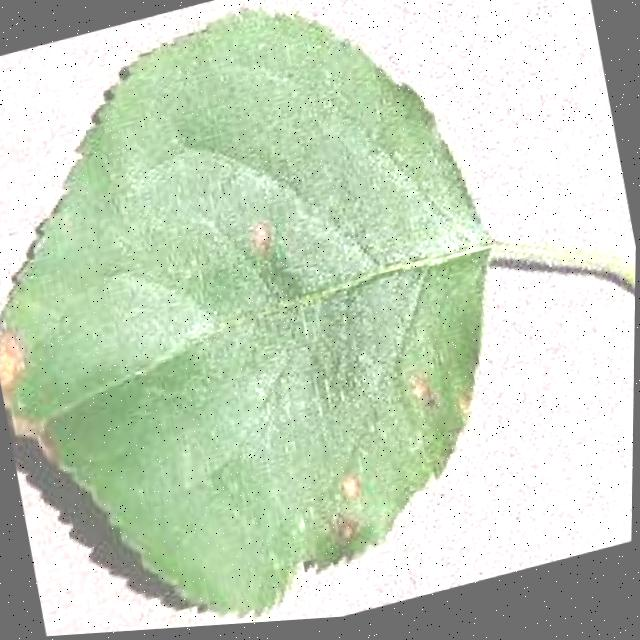black_rot: (0, 295, 61, 458), (309, 444, 379, 523), (400, 361, 442, 414)
